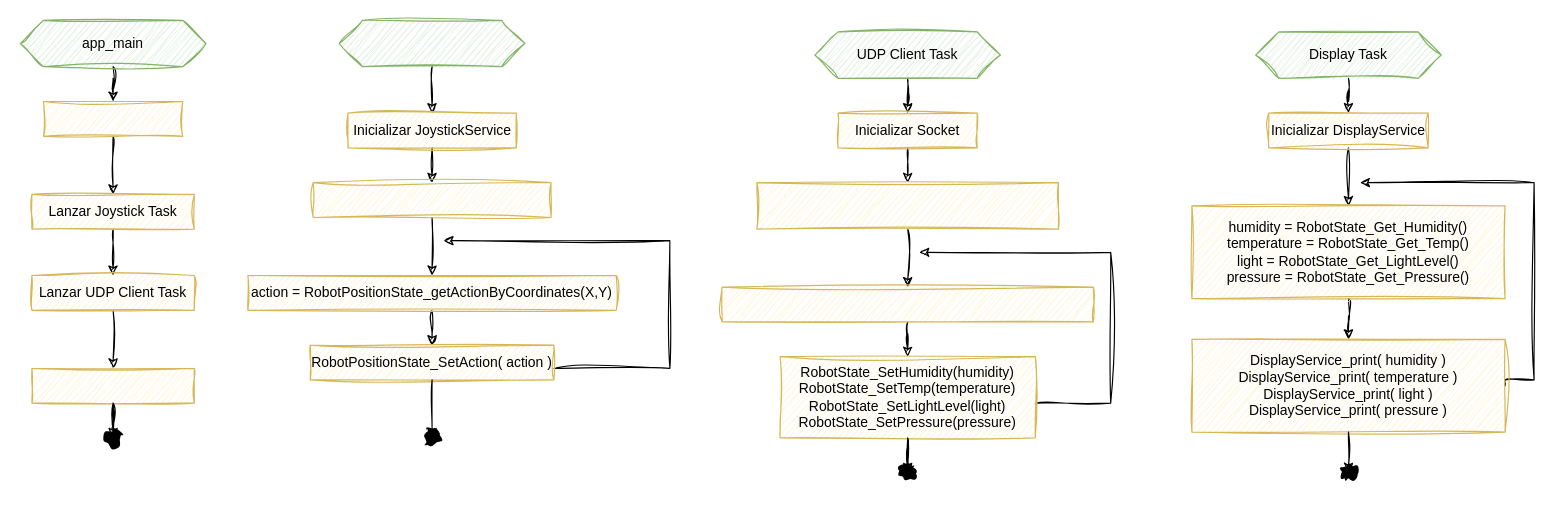
The diagram is 1564 pixels wide and 507 high, and some of its shapes have lost their labels. Here are the shapes that lost their labels. From the top down, the box of each, then its label:
(338, 19, 525, 67): Joystick Task
(42, 100, 183, 136): Config I2C Config ADC Service
(312, 182, 551, 217): (X , Y ) = JoystickService_Read()
(756, 182, 1058, 229): action = RobotPositionState_GetAction() Socket_Send( action )
(721, 286, 1093, 322): (humidity , temperature , pressure, light) = Socket_Recv()
(31, 367, 194, 403): Lanzar Display Task
